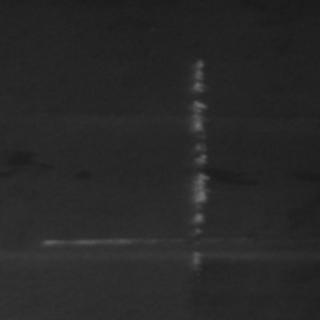scratches: (186, 58, 210, 268), (22, 226, 176, 250)
